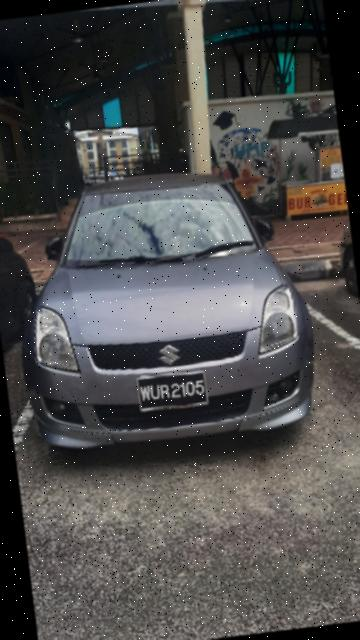License_Plate: (137, 370, 213, 416)
car: (1, 153, 324, 466)
